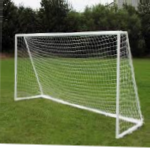goals: (13, 28, 145, 140)
